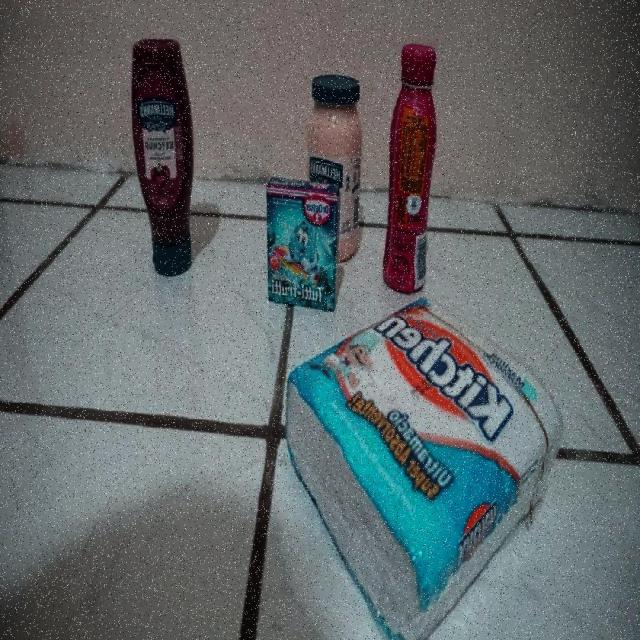ChocolateMilk: (383, 42, 439, 296)
Gelatine: (264, 174, 338, 310)
Ketchup: (131, 36, 196, 277)
Mayonnaise: (307, 75, 363, 260)
Napkin: (282, 297, 563, 640)
